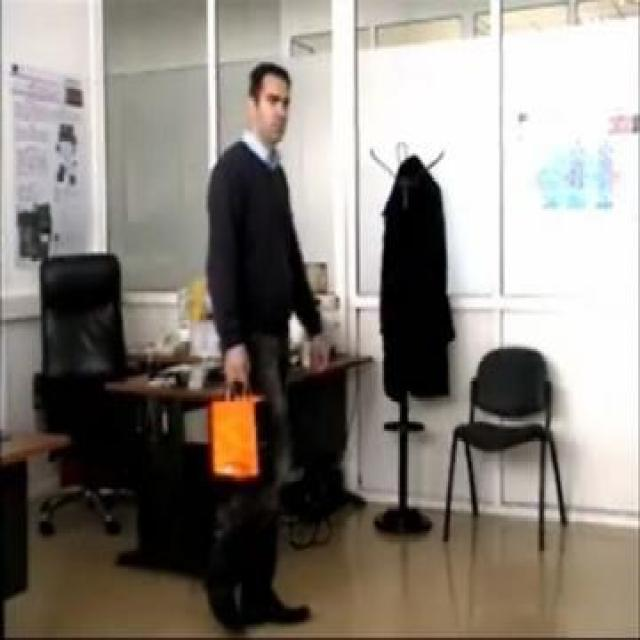other: (208, 391, 265, 482)
